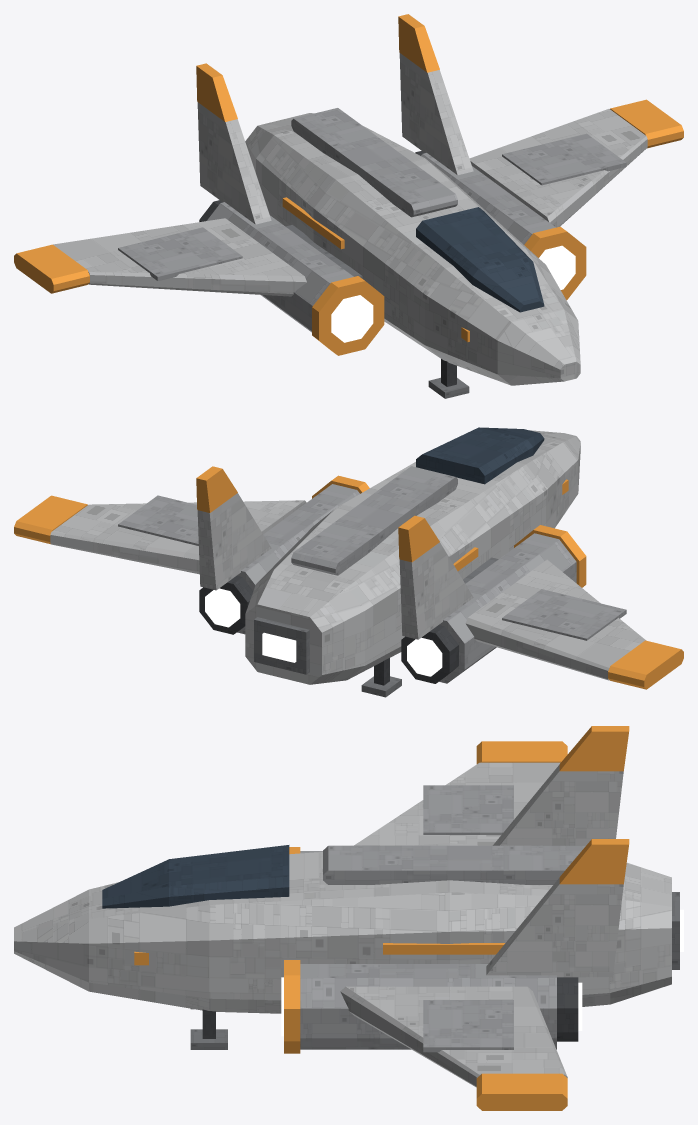
The model's file is shuttle_lod0.glb.
3 renders of one model, top to bottom at view 1: azimuth 30°, elevation 25°; view 2: azimuth 150°, elevation 25°; view 3: azimuth 270°, elevation 25°, orthographic. The views are drawn at different scales.
Parts seen in each view (by area): view 1: shuttle_shuttle_body, shuttle_shuttle_trim, shuttle_shuttle_glow; view 2: shuttle_shuttle_body, shuttle_shuttle_trim, shuttle_shuttle_glow; view 3: shuttle_shuttle_body, shuttle_shuttle_trim, shuttle_shuttle_glow.
Part boxes in pixels (x1=…): shuttle_shuttle_body: x1=53, y1=53, x2=647, y2=398; shuttle_shuttle_trim: x1=14, y1=14, x2=683, y2=355; shuttle_shuttle_glow: x1=331, y1=245, x2=575, y2=342; shuttle_shuttle_body: x1=50, y1=427, x2=645, y2=697; shuttle_shuttle_trim: x1=14, y1=466, x2=683, y2=689; shuttle_shuttle_glow: x1=205, y1=588, x2=442, y2=676; shuttle_shuttle_body: x1=14, y1=762, x2=679, y2=1087; shuttle_shuttle_trim: x1=134, y1=726, x2=629, y2=1110; shuttle_shuttle_glow: x1=281, y1=909, x2=683, y2=1036.
Bounding box in the file's own units: 3.12 × 0.98 × 2.5.
3 materials, 1 textured.
